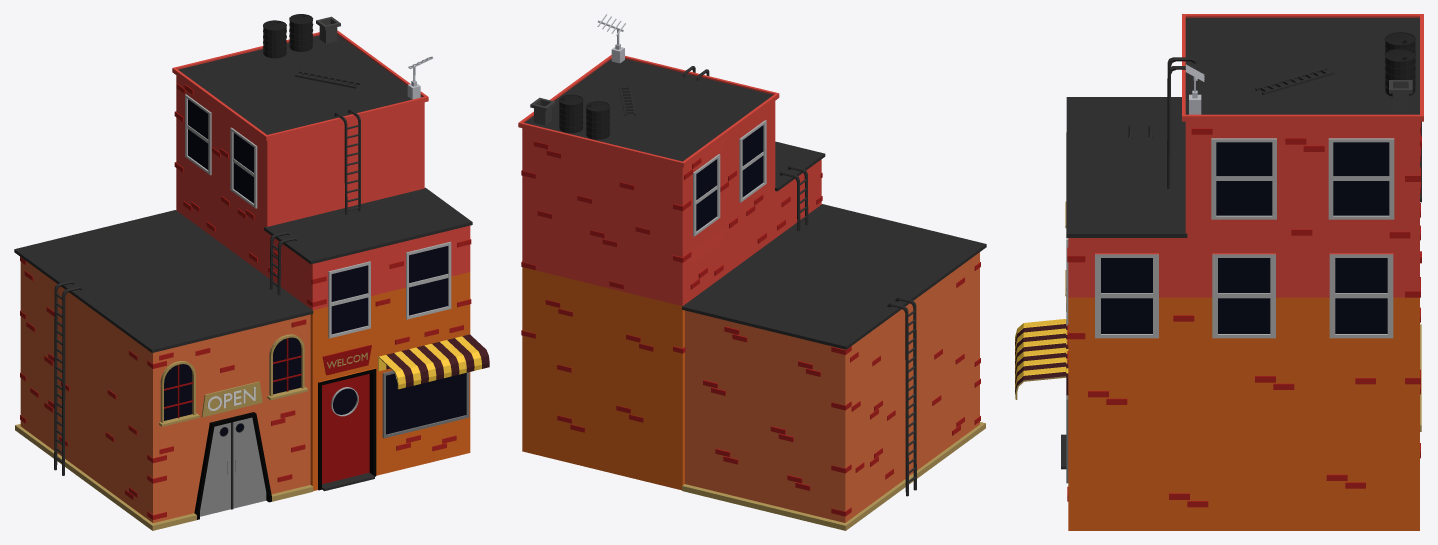
The model's file is Shop_house.fbx.
3 renders of one model, left to right at view 1: azimuth 30°, elevation 25°; view 2: azimuth 150°, elevation 25°; view 3: azimuth 270°, elevation 25°, orthographic. The views are drawn at different scales.
Parts seen in each view (by area): view 1: Plane.241; view 2: Plane.241; view 3: Plane.241.
Boxes of the visible parts, x1,y1,x2,y2 form: Plane.241: (14,14,489,530); Plane.241: (518,14,986,530); Plane.241: (1015,14,1423,530).
Bounding box in the file's own units: 846 × 854 × 680.
